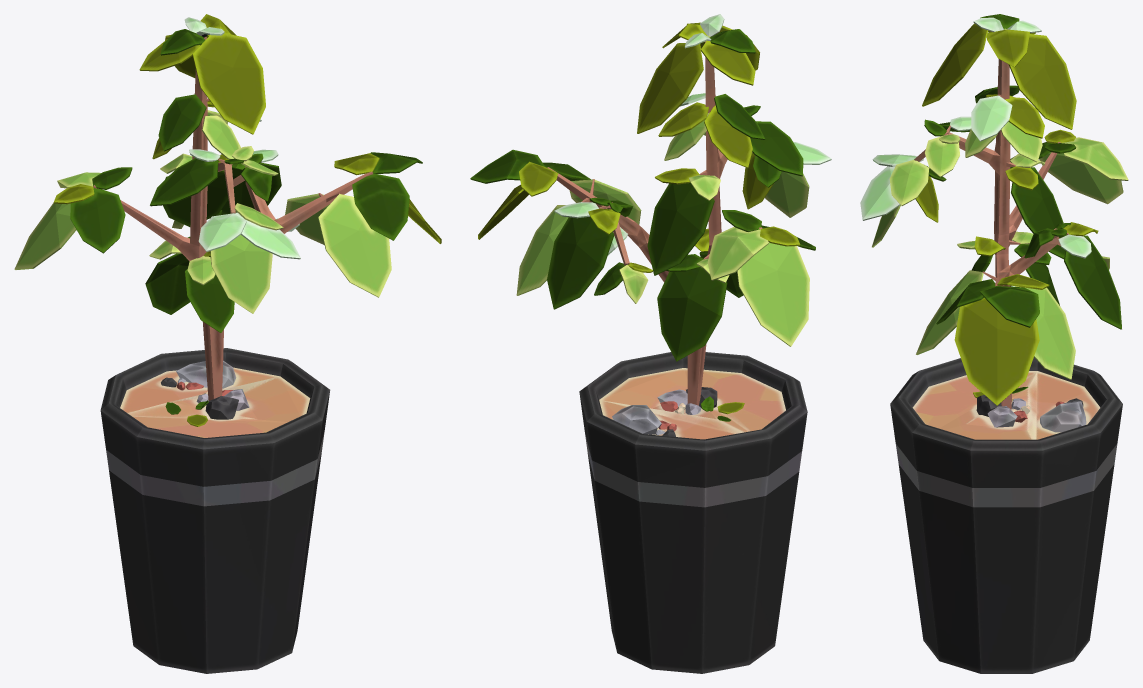
Rendered from Цветок.fbx.
3 views of the same model, side by side, from view 1: azimuth 30°, elevation 25°; view 2: azimuth 150°, elevation 25°; view 3: azimuth 270°, elevation 25° (orthographic).
Visible parts, largest first — view 1: Vase; view 2: Vase; view 3: Vase.
Part boxes in pixels (<box>): Vase: <box>14,14,441,673</box>; Vase: <box>470,14,831,673</box>; Vase: <box>860,14,1128,673</box>.
Bounding box in the file's own units: 96.17 × 153 × 60.74.
Materials: 1 (1 with a texture image).
